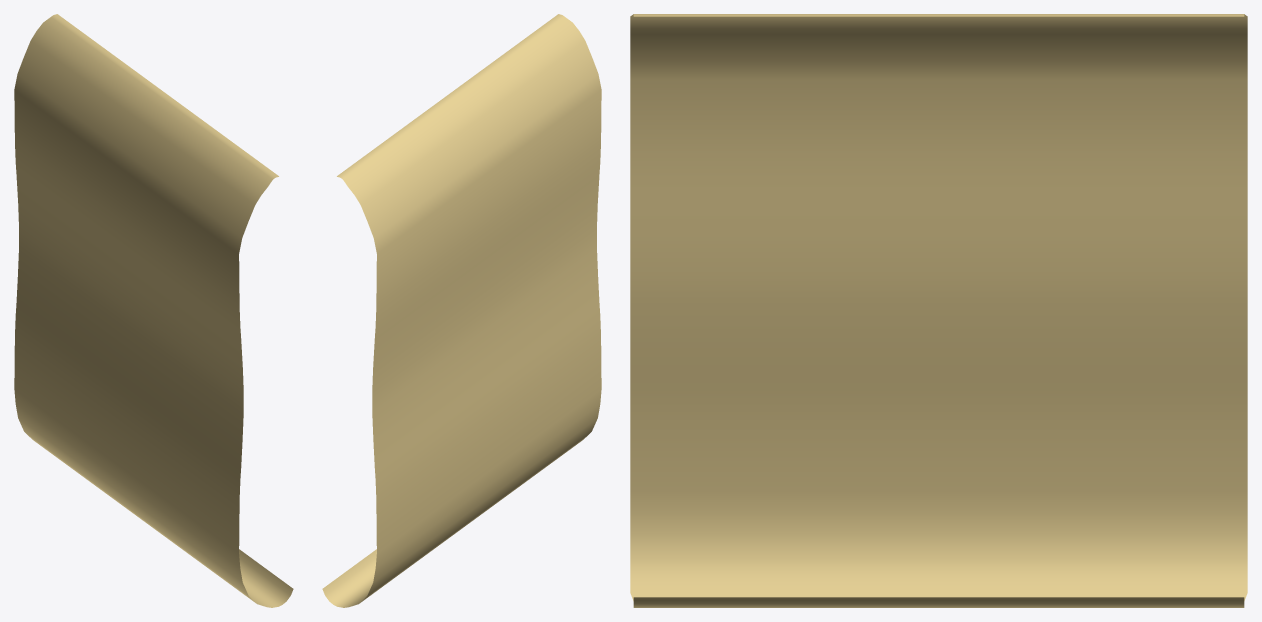
The model's file is memo_open.fbx.
3 renders of one model, left to right at view 1: azimuth 30°, elevation 25°; view 2: azimuth 150°, elevation 25°; view 3: azimuth 270°, elevation 25°, orthographic. The views are drawn at different scales.
Parts seen in each view (by area): view 1: Plane; view 2: Plane; view 3: Plane.
Boxes of the visible parts, x1,y1,x2,y2 form: Plane: (14, 14, 293, 607); Plane: (322, 14, 601, 607); Plane: (630, 14, 1247, 607).
Bounding box in the file's own units: 38.98 × 287 × 272.
